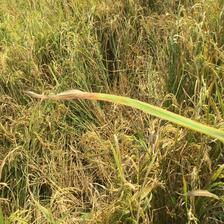2 BacterialBlight: (21, 74, 169, 122)
